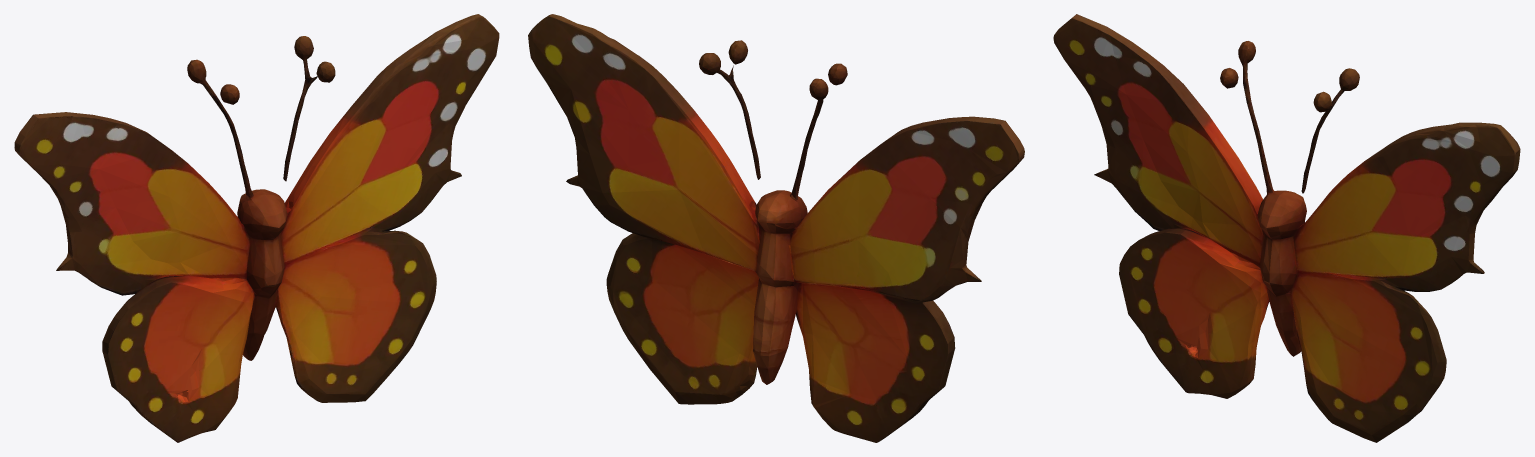
File: butterfly.glb
The picture shows the model from 3 angles, left to right: view 1: azimuth 30°, elevation 25°; view 2: azimuth 150°, elevation 25°; view 3: azimuth 330°, elevation 25°; orthographic projection. The views are drawn at different scales.
Visible parts, largest first — view 1: world; view 2: world; view 3: world.
Part boxes in pixels (x1=…): world: x1=14, y1=14, x2=499, y2=442; world: x1=528, y1=14, x2=1024, y2=442; world: x1=1053, y1=14, x2=1520, y2=442.
Bounding box in the file's own units: 0.9989 × 0.7265 × 0.1359.
Materials: 1 (1 with a texture image).
